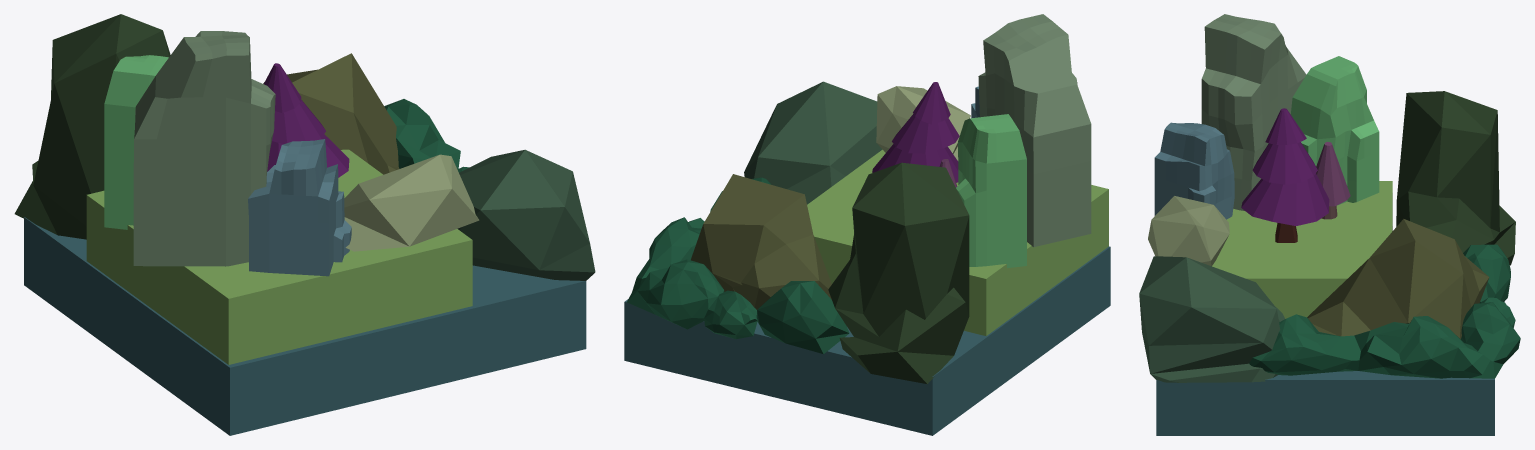
File: 山丘导出.fbx
The picture shows the model from 3 angles, left to right: view 1: azimuth 30°, elevation 25°; view 2: azimuth 150°, elevation 25°; view 3: azimuth 270°, elevation 25°; orthographic projection. The views are drawn at different scales.
Parts seen in each view (by area): view 1: Cube.002, 立方体, 立方体.002, 棱角球.003, 棱角球.005, 立方体.001, 棱角球.001, 棱角球.002, 立方体.003, 棱角球, 柱体.009, 柱体.011 (+1 smaller); view 2: Cube.002, 棱角球.003, 立方体.002, 棱角球.002, 立方体, 棱角球.005, 立方体.003, 棱角球, 棱角球.004, 棱角球.001, 柱体.009, 柱体.008 (+1 smaller); view 3: Cube.002, 棱角球.005, 棱角球.003, 棱角球, 棱角球.002, 立方体, 立方体.002, 立方体.003, 立方体.001, 棱角球.001, 柱体.008, 柱体.009 (+4 smaller).
Boxes of the visible parts, x1,y1,x2,y2 form: Cube.002: (24,217,586,435); 立方体: (86,149,472,364); 立方体.002: (133,31,275,266); 棱角球.003: (14,14,170,239); 棱角球.005: (457,149,595,280); 立方体.001: (248,139,351,276); 棱角球.001: (344,154,479,251); 棱角球.002: (263,53,399,174); 立方体.003: (104,55,168,229); 棱角球: (384,99,469,172); 柱体.009: (272,99,325,144); 柱体.011: (264,63,301,113); Cube.002: (624,246,1110,435); 棱角球.003: (828,162,969,384); 立方体.002: (978,14,1091,247); 棱角球.002: (691,174,831,309); 立方体: (807,149,1108,335); 棱角球.005: (744,81,882,204); 立方体.003: (956,114,1026,268); 棱角球: (627,177,770,339); 棱角球.004: (756,281,849,353); 棱角球.001: (876,86,970,160); 柱体.009: (892,114,959,153); 柱体.008: (872,144,958,182); Cube.002: (1156,371,1494,435); 棱角球.005: (1139,256,1284,382); 棱角球.003: (1396,91,1515,265); 棱角球: (1249,297,1520,378); 棱角球.002: (1307,219,1489,339); 立方体: (1212,181,1392,318); 立方体.002: (1201,14,1306,210); 立方体.003: (1290,56,1379,205); 立方体.001: (1154,122,1234,219); 棱角球.001: (1148,196,1229,266); 柱体.008: (1241,173,1329,225); 柱体.009: (1252,142,1317,184).
Bounding box in the file's own units: 552 × 450 × 545.
